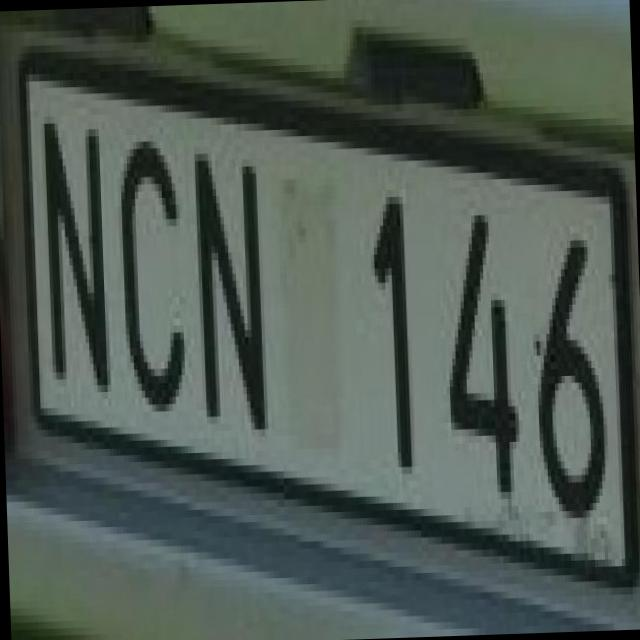1: (347, 174, 425, 475)
4: (419, 185, 528, 494)
6: (511, 210, 616, 512)
C: (100, 111, 192, 406)
N: (176, 122, 278, 432), (22, 92, 114, 394)
